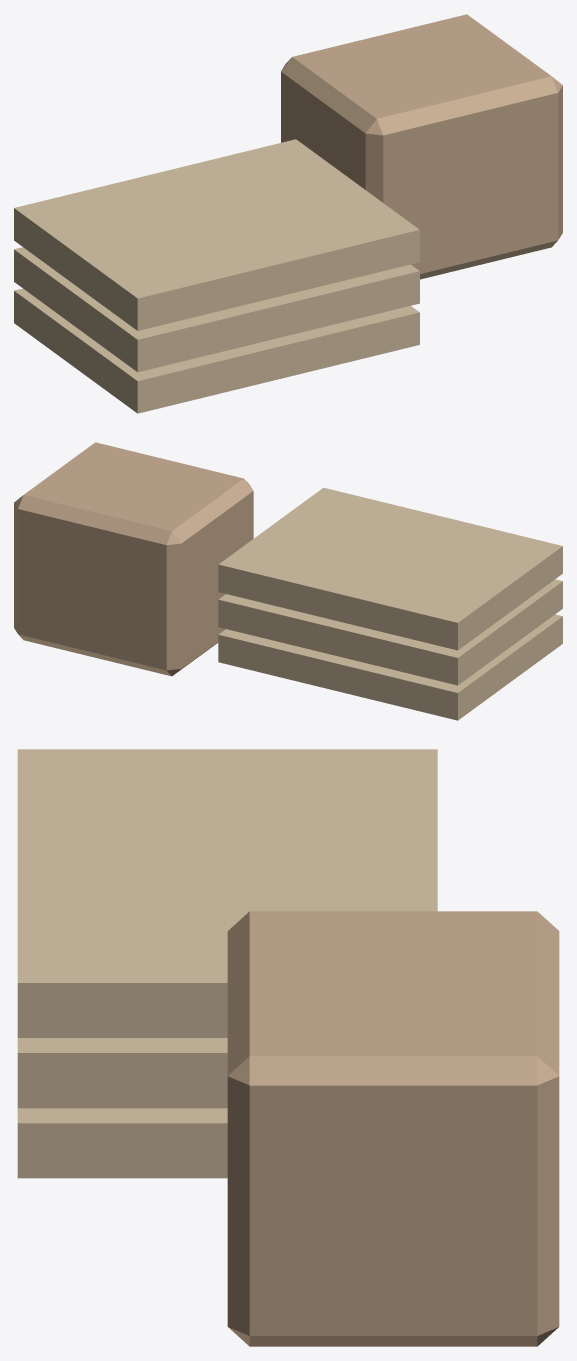
File: prop_pallets.glb
3 views of the same model, one above another, from view 1: azimuth 30°, elevation 25°; view 2: azimuth 150°, elevation 25°; view 3: azimuth 270°, elevation 25° (orthographic). The views are drawn at different scales.
Parts seen in each view (by area): view 1: prop_pallets; view 2: prop_pallets; view 3: prop_pallets.
Part boxes in pixels (<box>): prop_pallets: <box>14,14,562,413</box>; prop_pallets: <box>14,442,562,720</box>; prop_pallets: <box>17,749,559,1346</box>.
Bounding box in the file's own units: 0.175 × 0.058 × 0.098.
